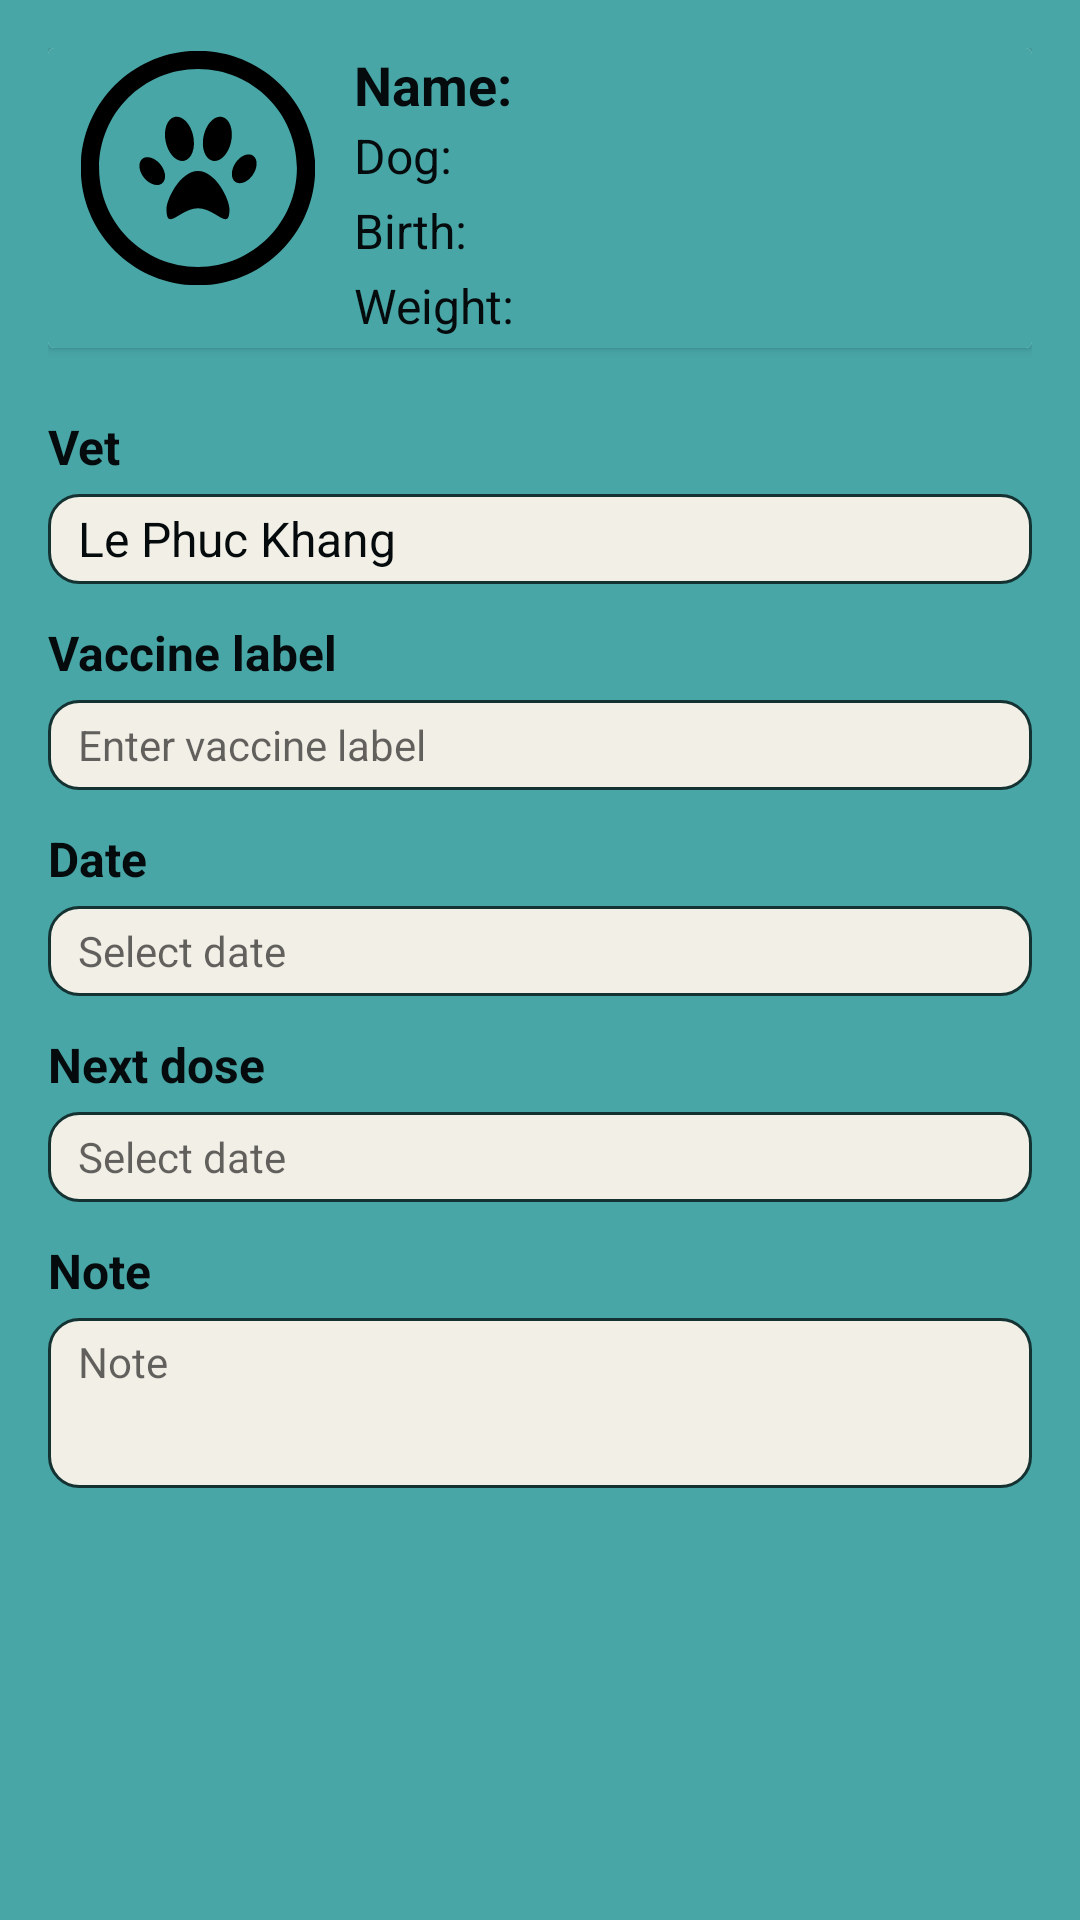

Screen size 1080x1920. Icon name, then its center in pixels as (x=x, y=y):
animal: (x=198, y=168)
